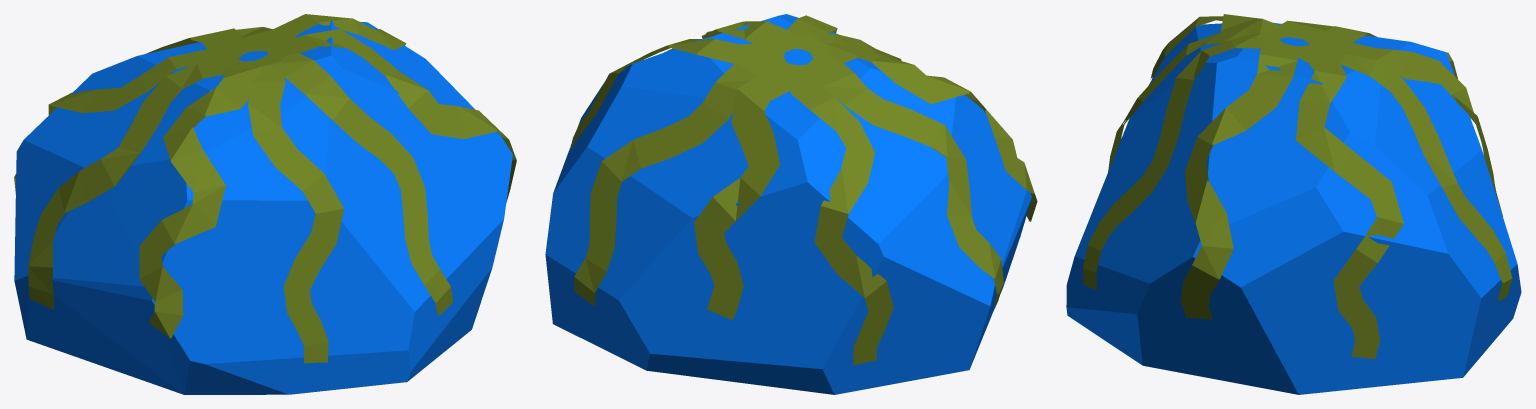
The model's file is KelpBoulder.fbx.
3 views of the same model, side by side, from view 1: azimuth 30°, elevation 25°; view 2: azimuth 150°, elevation 25°; view 3: azimuth 270°, elevation 25° (orthographic). The views are drawn at different scales.
Visible parts, largest first — view 1: KelpBoulder, KelpBoulder_Kelp; view 2: KelpBoulder, KelpBoulder_Kelp; view 3: KelpBoulder, KelpBoulder_Kelp.
Part boxes in pixels (x1,y1,x2,y2): KelpBoulder: (14,20,512,394); KelpBoulder_Kelp: (14,14,516,363); KelpBoulder: (545,14,1031,394); KelpBoulder_Kelp: (569,15,1037,364); KelpBoulder: (1066,22,1521,394); KelpBoulder_Kelp: (1082,14,1512,359).
Bounding box in the file's own units: 15.3 × 8.87 × 13.75.
